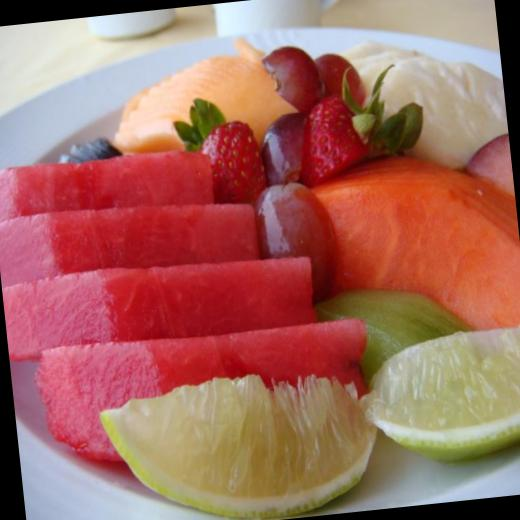Cherry: (30, 314, 376, 468), (309, 146, 520, 344), (0, 243, 318, 362), (0, 194, 260, 287), (0, 146, 212, 226)
